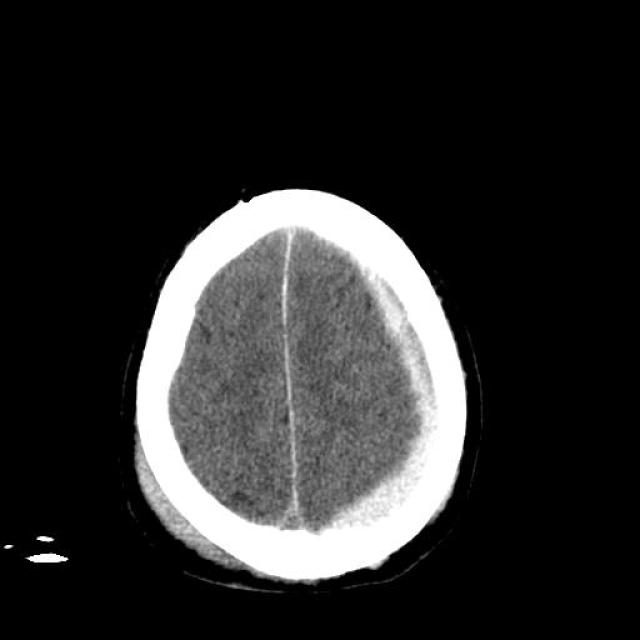Subdural: (320, 247, 478, 562)
